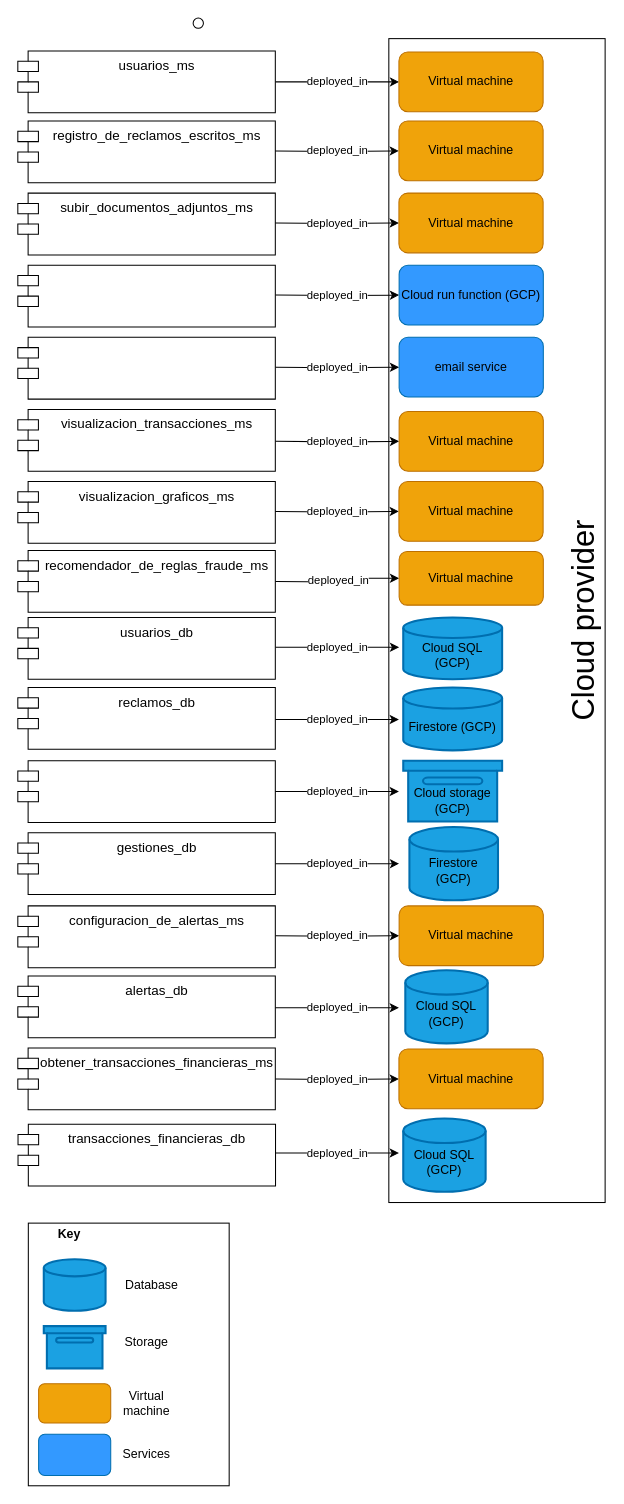
This 624x1504 diagram has some shape labels left out. The centre of each missing label's shape, as x and y in pixels:
"documentos_st" belongs at (146,791).
"envio_de_correos_ms" belongs at (146,367).
"gestion_de_trx_fraude_ms" belongs at (146,295).
